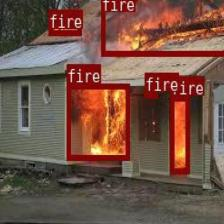fire: (100, 0, 224, 54), (66, 83, 129, 158), (170, 95, 188, 173), (47, 9, 80, 34), (144, 90, 157, 98)
